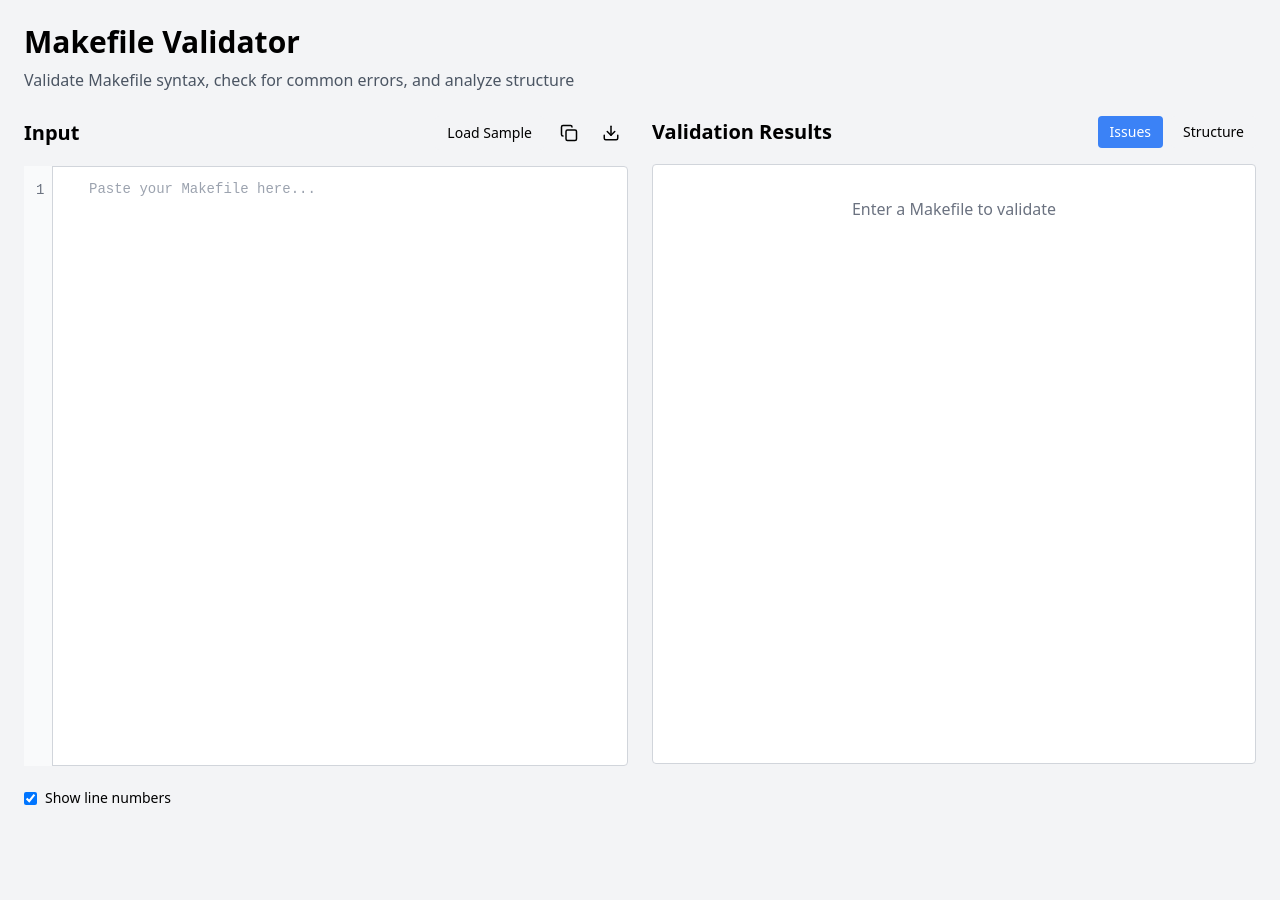
Scenario: MakefileValidator › Validation Logic › warns about targets without recipes
The image size is (1280, 900).
Step 1. Type "all: dependency dependency:" into the text box with placeholder "Paste your Makefile here..." → (326, 466), box x1=24 y1=166 x2=628 y2=766
Wait 300 ms
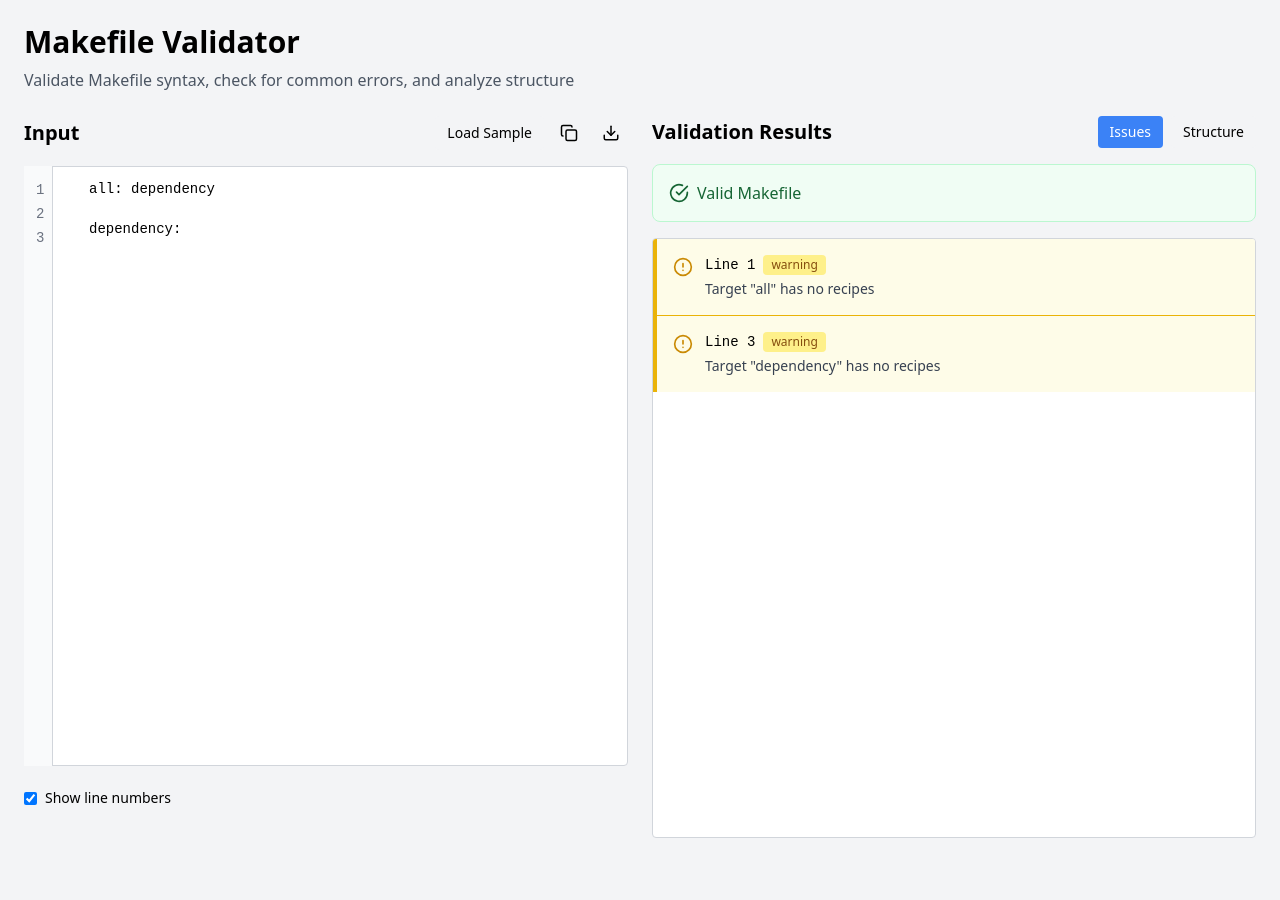
expect the text "Target \"all\" has no recipes" is shown: met, box x1=705 y1=279 x2=874 y2=298
expect the text "Target \"dependency\" has no recipes" is shown: met, box x1=705 y1=356 x2=940 y2=375
